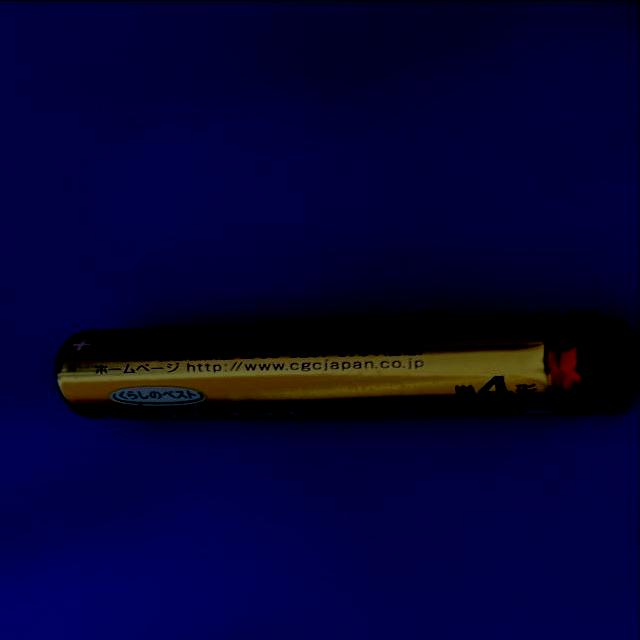AAA: (53, 308, 619, 422)
